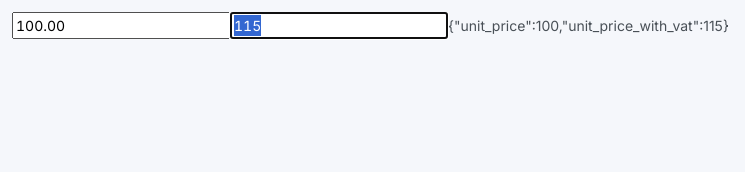
Test: PriceInput › clearing one price clears the other
The image size is (745, 172).
Clear the field with test id "inc": (339, 26) [230,12,448,39]
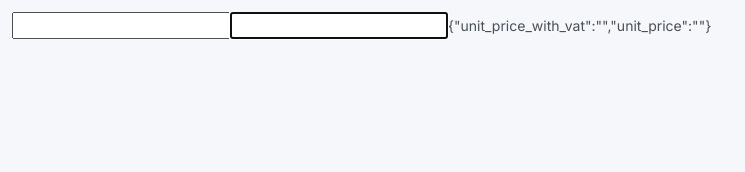
expect the field with test id "ex" is empty: met, box [12,12,230,39]
